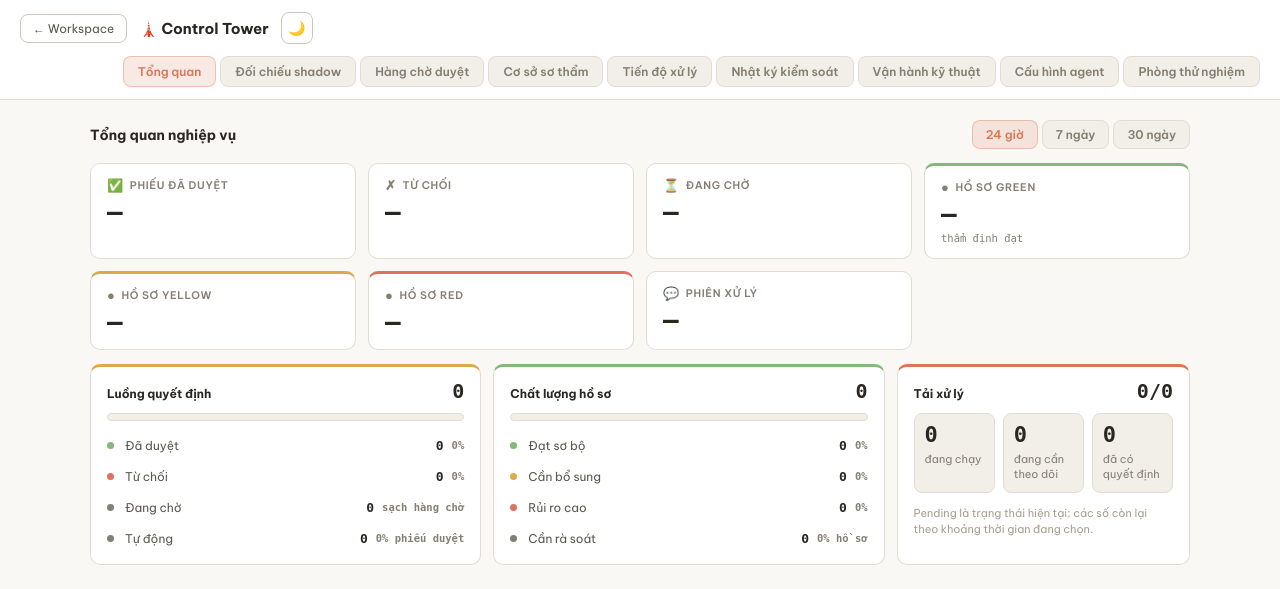
Test: ControlTower › admin mở Cấu hình agent, sửa prompt và kích hoạt version mới
Click the button "Cấu hình agent" at (1060, 72), box [1000,56,1119,87]
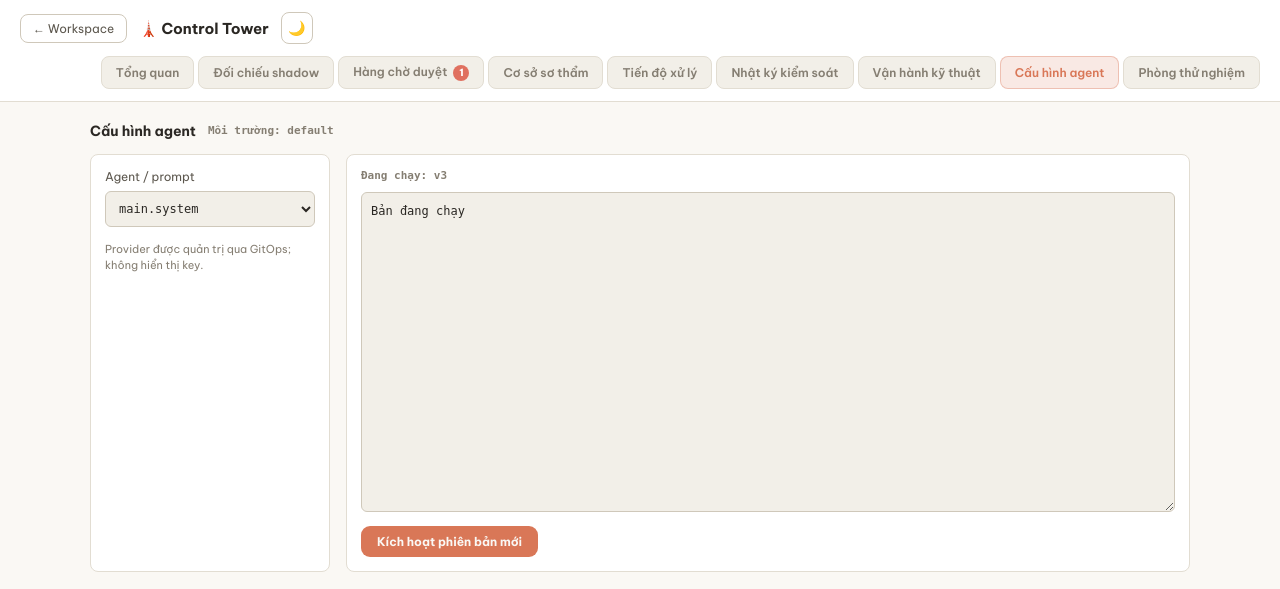
Now the text box showing "Bản đang chạy" is shown
Replace the text in the text box named "Nội dung prompt" with "Bản mới" at (768, 352), box [361,192,1175,512]
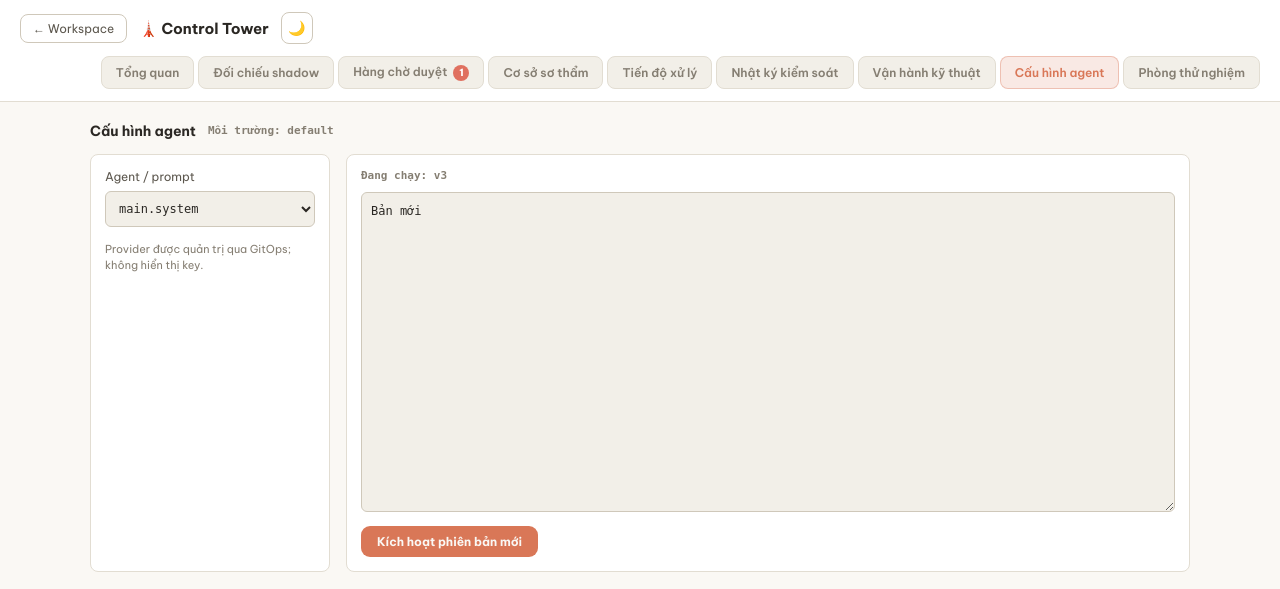
Click the button "Kích hoạt phiên bản mới" at (450, 541), box [361,526,538,557]
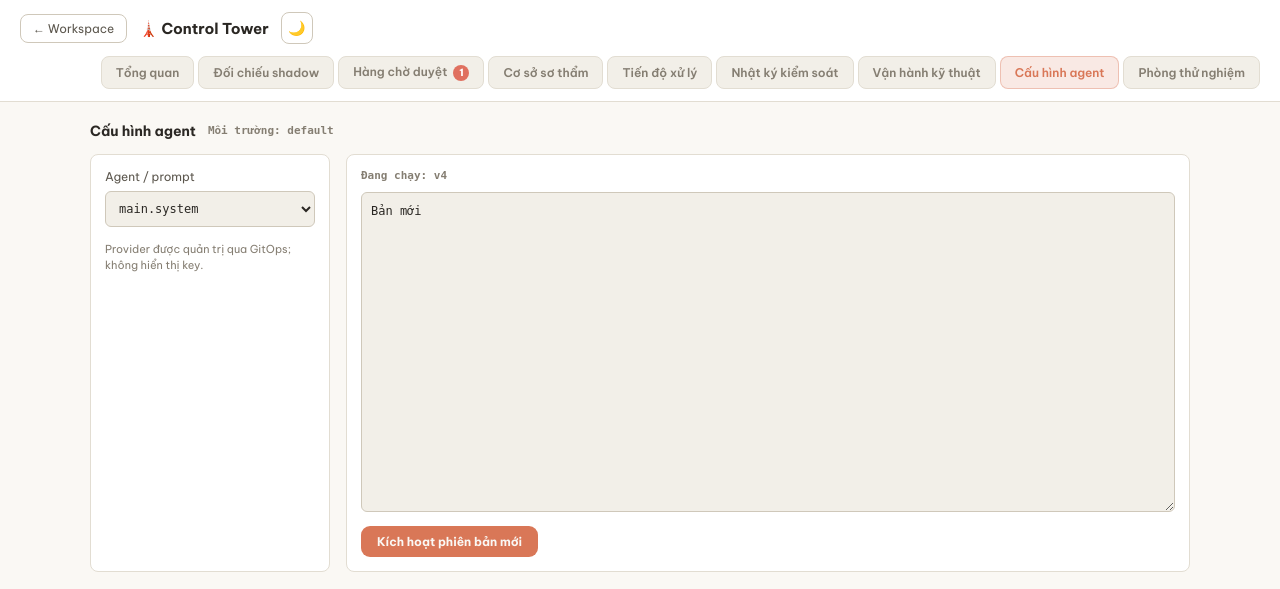
Now the text "Đang chạy: v4" is shown, box [361,169,447,182]
